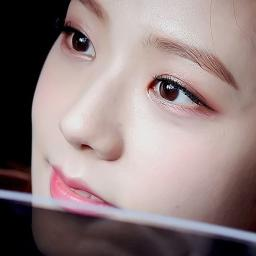face: (36, 1, 238, 199)
